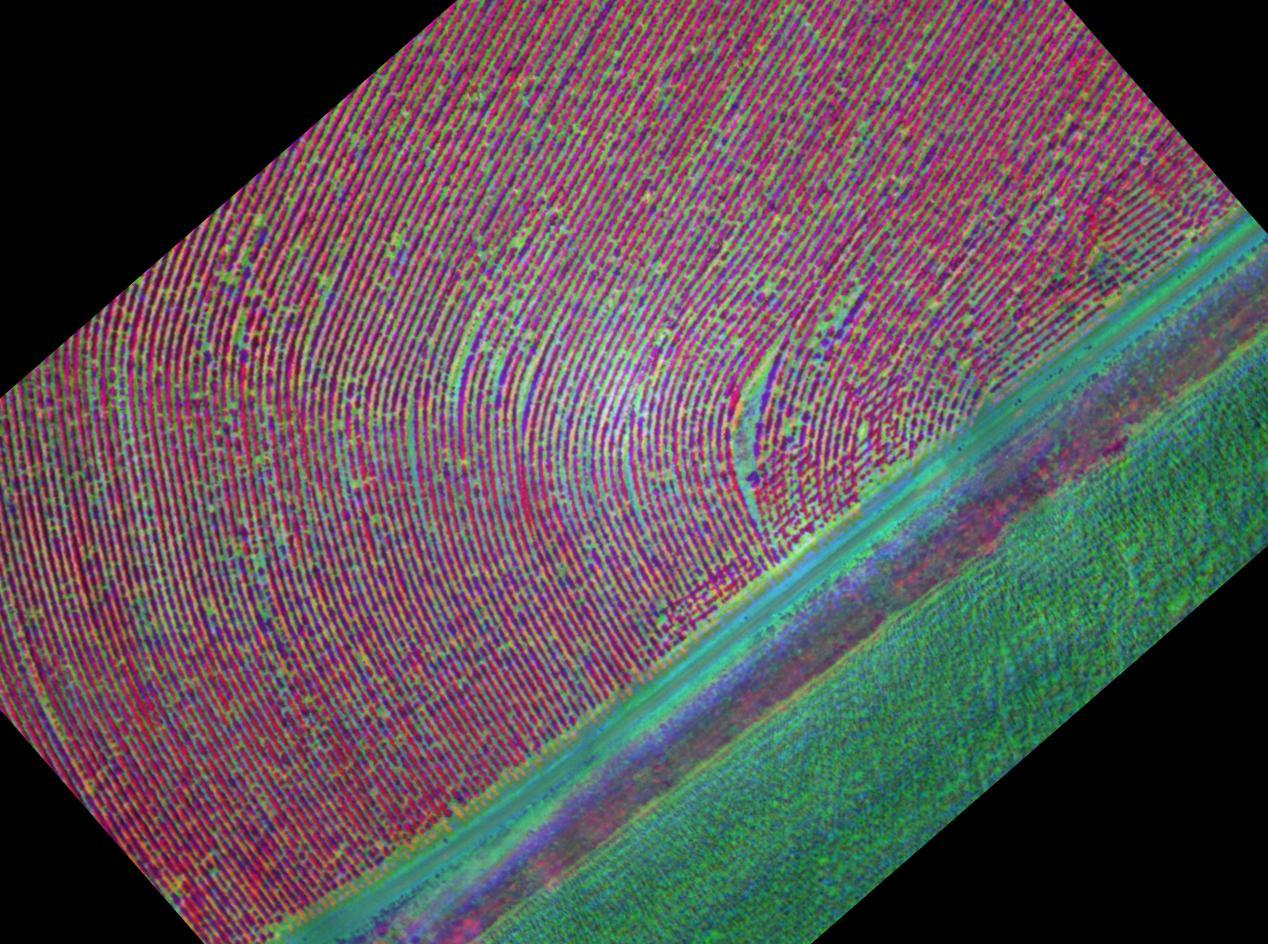dc: (678, 350, 810, 540), (443, 253, 548, 433), (213, 220, 342, 352), (113, 530, 232, 619)
